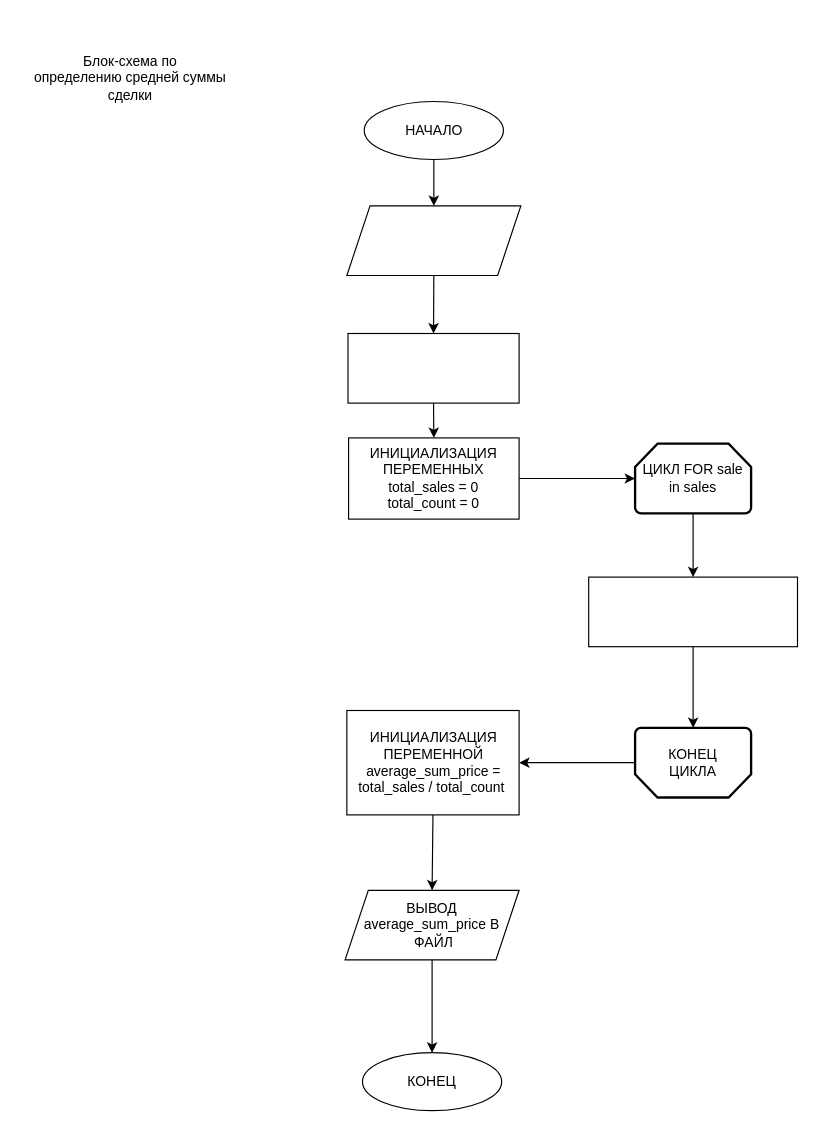
Image size: 818x1131. Some labels were removed from this diagram. The shapes that lost their labels are listed below. From the top down, each one's centre as x and y in pixels, then its label:
the point at 433,240: ЧТЕНИЕ ДАННЫХ ИЗ ФАЙЛОВ
the point at 433,367: ПАРСИНГ ФАЙЛОВ
the point at 693,611: sale_price_sale = sale[2] total_sales += sale_price_sale total_count +=1
